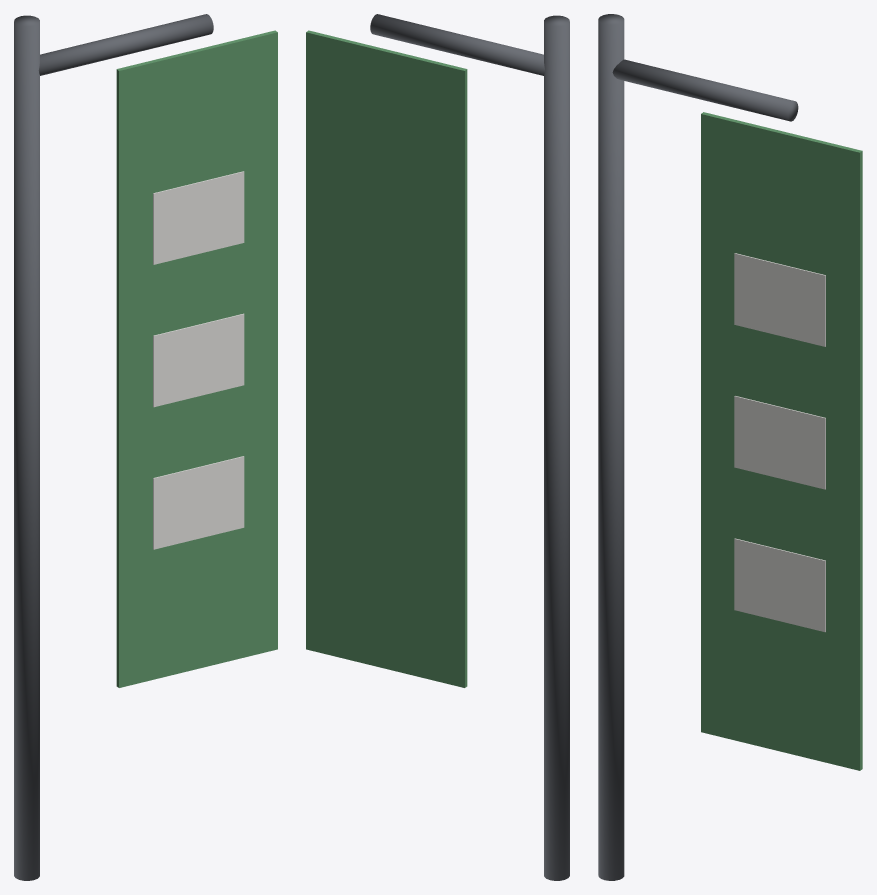
Rendered from prop_tatemaku_green.glb.
3 renders of one model, left to right at view 1: azimuth 30°, elevation 25°; view 2: azimuth 150°, elevation 25°; view 3: azimuth 330°, elevation 25°, orthographic.
Parts seen in each view (by area): view 1: tatemaku_green; view 2: tatemaku_green; view 3: tatemaku_green.
Part boxes in pixels (x1,y1,x2,y2): tatemaku_green: (14,14,277,880); tatemaku_green: (306,14,569,880); tatemaku_green: (598,14,862,880).
Bounding box in the file's own units: 1.15 × 3.6 × 0.1.
